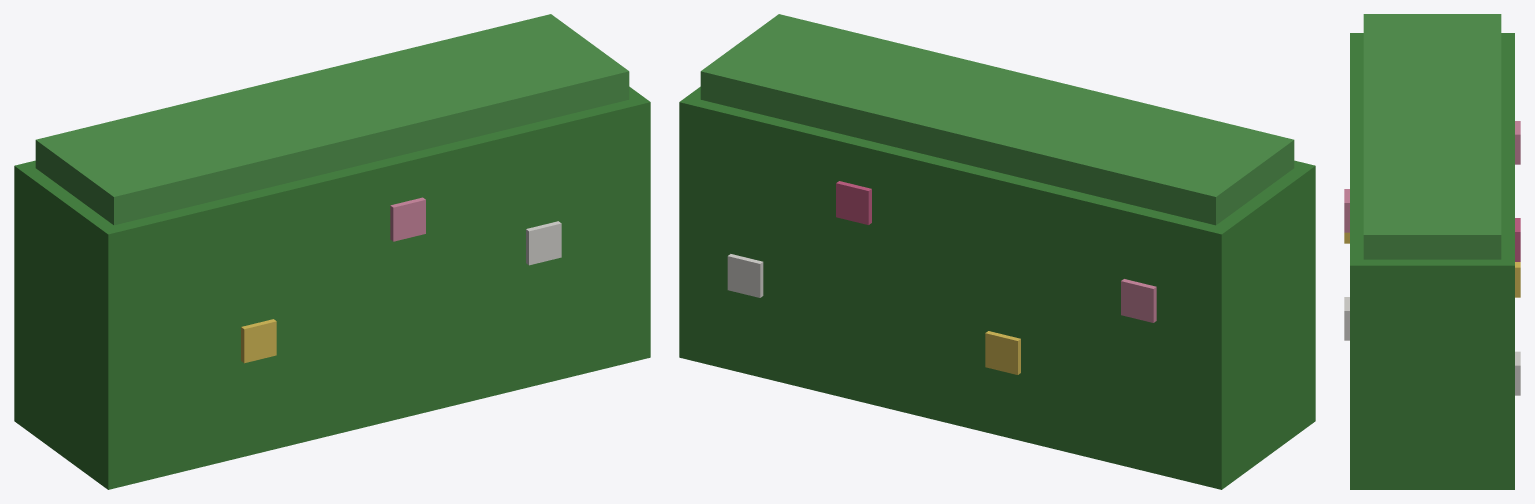
Rendered from ncb-hedge.glb.
3 views of the same model, side by side, from view 1: azimuth 30°, elevation 25°; view 2: azimuth 150°, elevation 25°; view 3: azimuth 270°, elevation 25° (orthographic). The views are drawn at different scales.
Visible parts, largest first — view 1: box-prop; view 2: box-prop; view 3: box-prop.
Boxes of the visible parts, x1,y1,x2,y2 form: box-prop: (14,14,650,489); box-prop: (679,14,1315,489); box-prop: (1344,14,1520,489).
Bounding box in the file's own units: 2 × 1 × 0.64.
